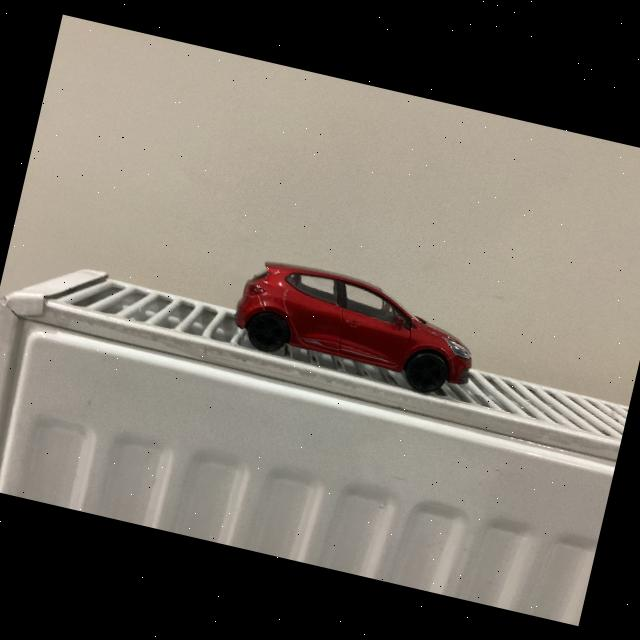Dogru_Jant: (249, 313, 287, 350), (409, 352, 444, 387)
